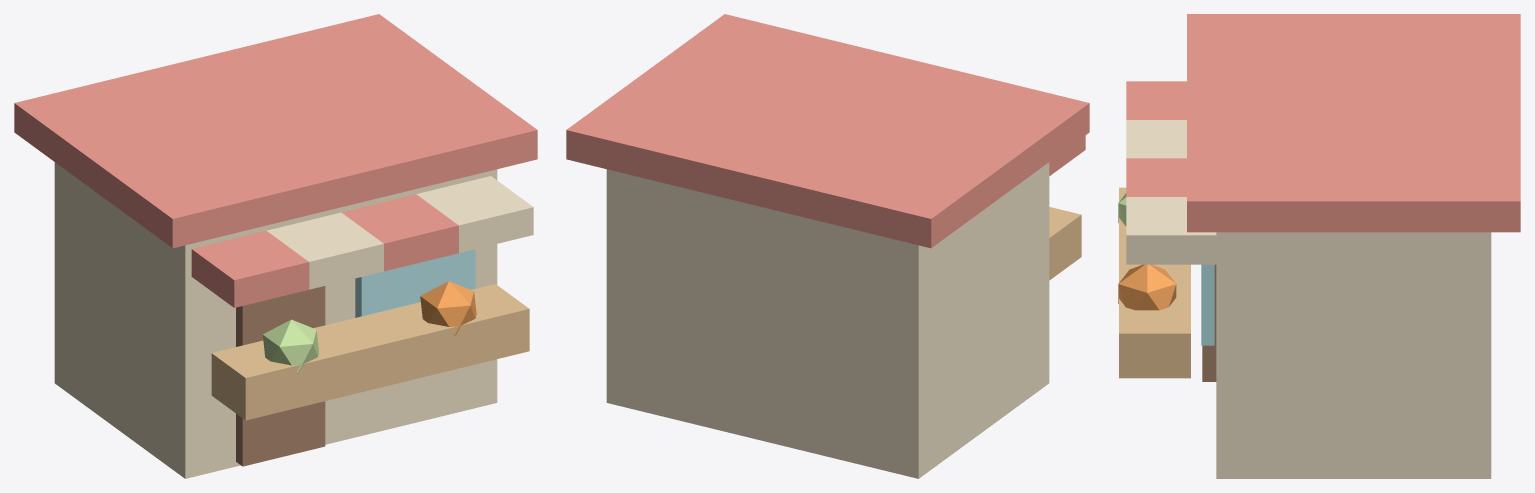
File: facility_shop.glb
The picture shows the model from 3 angles, left to right: view 1: azimuth 30°, elevation 25°; view 2: azimuth 150°, elevation 25°; view 3: azimuth 270°, elevation 25°; orthographic projection. The views are drawn at different scales.
Visible parts, largest first — view 1: roof slab, little storefront, counter, door, striped awning, striped awning.002, striped awning.001, striped awning.003, display window, produce on counter, produce on counter.001; view 2: little storefront, roof slab, counter, striped awning; view 3: roof slab, little storefront, counter, striped awning.003, striped awning, striped awning.001, striped awning.002, produce on counter.001, display window, door.
Boxes of the visible parts, x1,y1,x2,y2 form: roof slab: [14, 14, 537, 248]; little storefront: [54, 162, 497, 478]; counter: [211, 284, 529, 420]; door: [236, 286, 325, 466]; striped awning: [191, 230, 309, 307]; striped awning.002: [341, 194, 458, 271]; striped awning.001: [267, 212, 383, 289]; striped awning.003: [416, 176, 533, 252]; display window: [355, 249, 475, 317]; produce on counter: [262, 319, 318, 373]; produce on counter.001: [420, 281, 476, 335]; little storefront: [606, 162, 1049, 478]; roof slab: [566, 14, 1089, 248]; counter: [1049, 207, 1081, 280]; striped awning: [1049, 135, 1085, 175]; roof slab: [1187, 14, 1520, 232]; little storefront: [1216, 232, 1491, 478]; counter: [1119, 187, 1190, 378]; striped awning.003: [1126, 197, 1216, 264]; striped awning: [1126, 81, 1186, 119]; striped awning.001: [1126, 120, 1186, 158]; striped awning.002: [1126, 158, 1186, 196]; produce on counter.001: [1118, 264, 1176, 310]; display window: [1201, 264, 1214, 345]; door: [1202, 264, 1216, 381].
Size of the model in its own units: 2.34 by 1.7 by 2.12.
